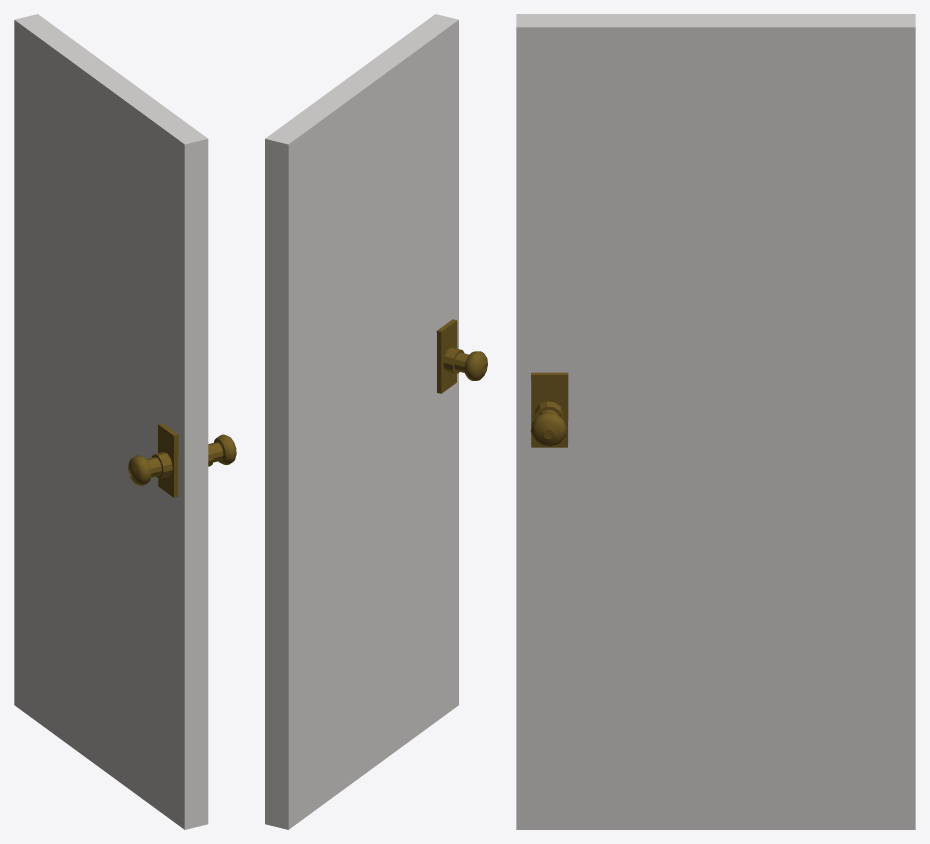
Rendered from police room door.fbx.
3 renders of one model, left to right at view 1: azimuth 30°, elevation 25°; view 2: azimuth 150°, elevation 25°; view 3: azimuth 270°, elevation 25°, orthographic. The views are drawn at different scales.
Visible parts, largest first — view 1: pCube17; view 2: pCube17; view 3: pCube17.
Boxes of the visible parts, x1,y1,x2,y2 form: pCube17: (14,14,236,829); pCube17: (265,14,487,829); pCube17: (516,14,915,829).
Bounding box in the file's own units: 1.39 × 8.96 × 4.04.
